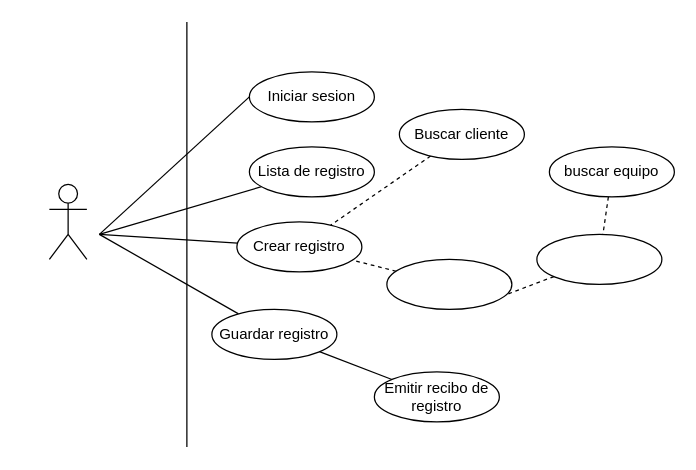
The diagram is 696 pixels wide and 470 high, and some of its shapes have lost their labels. Each missing label, with the centre of its shape:
"Marca" goes at point (599, 258).
"Recepcionista" goes at point (67, 221).
"Tipo de equipo" goes at point (449, 283).
